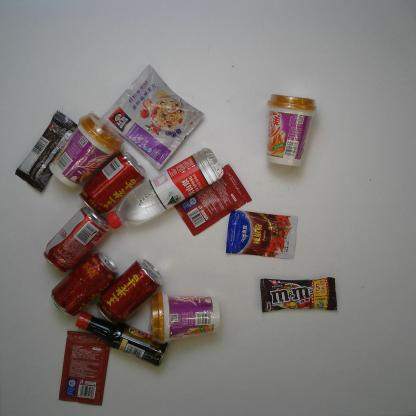Chocolate: (13, 108, 78, 192), (260, 276, 338, 313)
Drink: (106, 146, 226, 231), (96, 257, 165, 326), (43, 205, 111, 274), (50, 250, 118, 318), (79, 151, 147, 217)
Instant Drink: (102, 62, 205, 171), (47, 110, 124, 190), (146, 291, 221, 346), (264, 93, 317, 168)
Seasoner: (173, 162, 253, 237), (74, 310, 170, 368), (58, 329, 111, 406), (225, 209, 298, 259)
